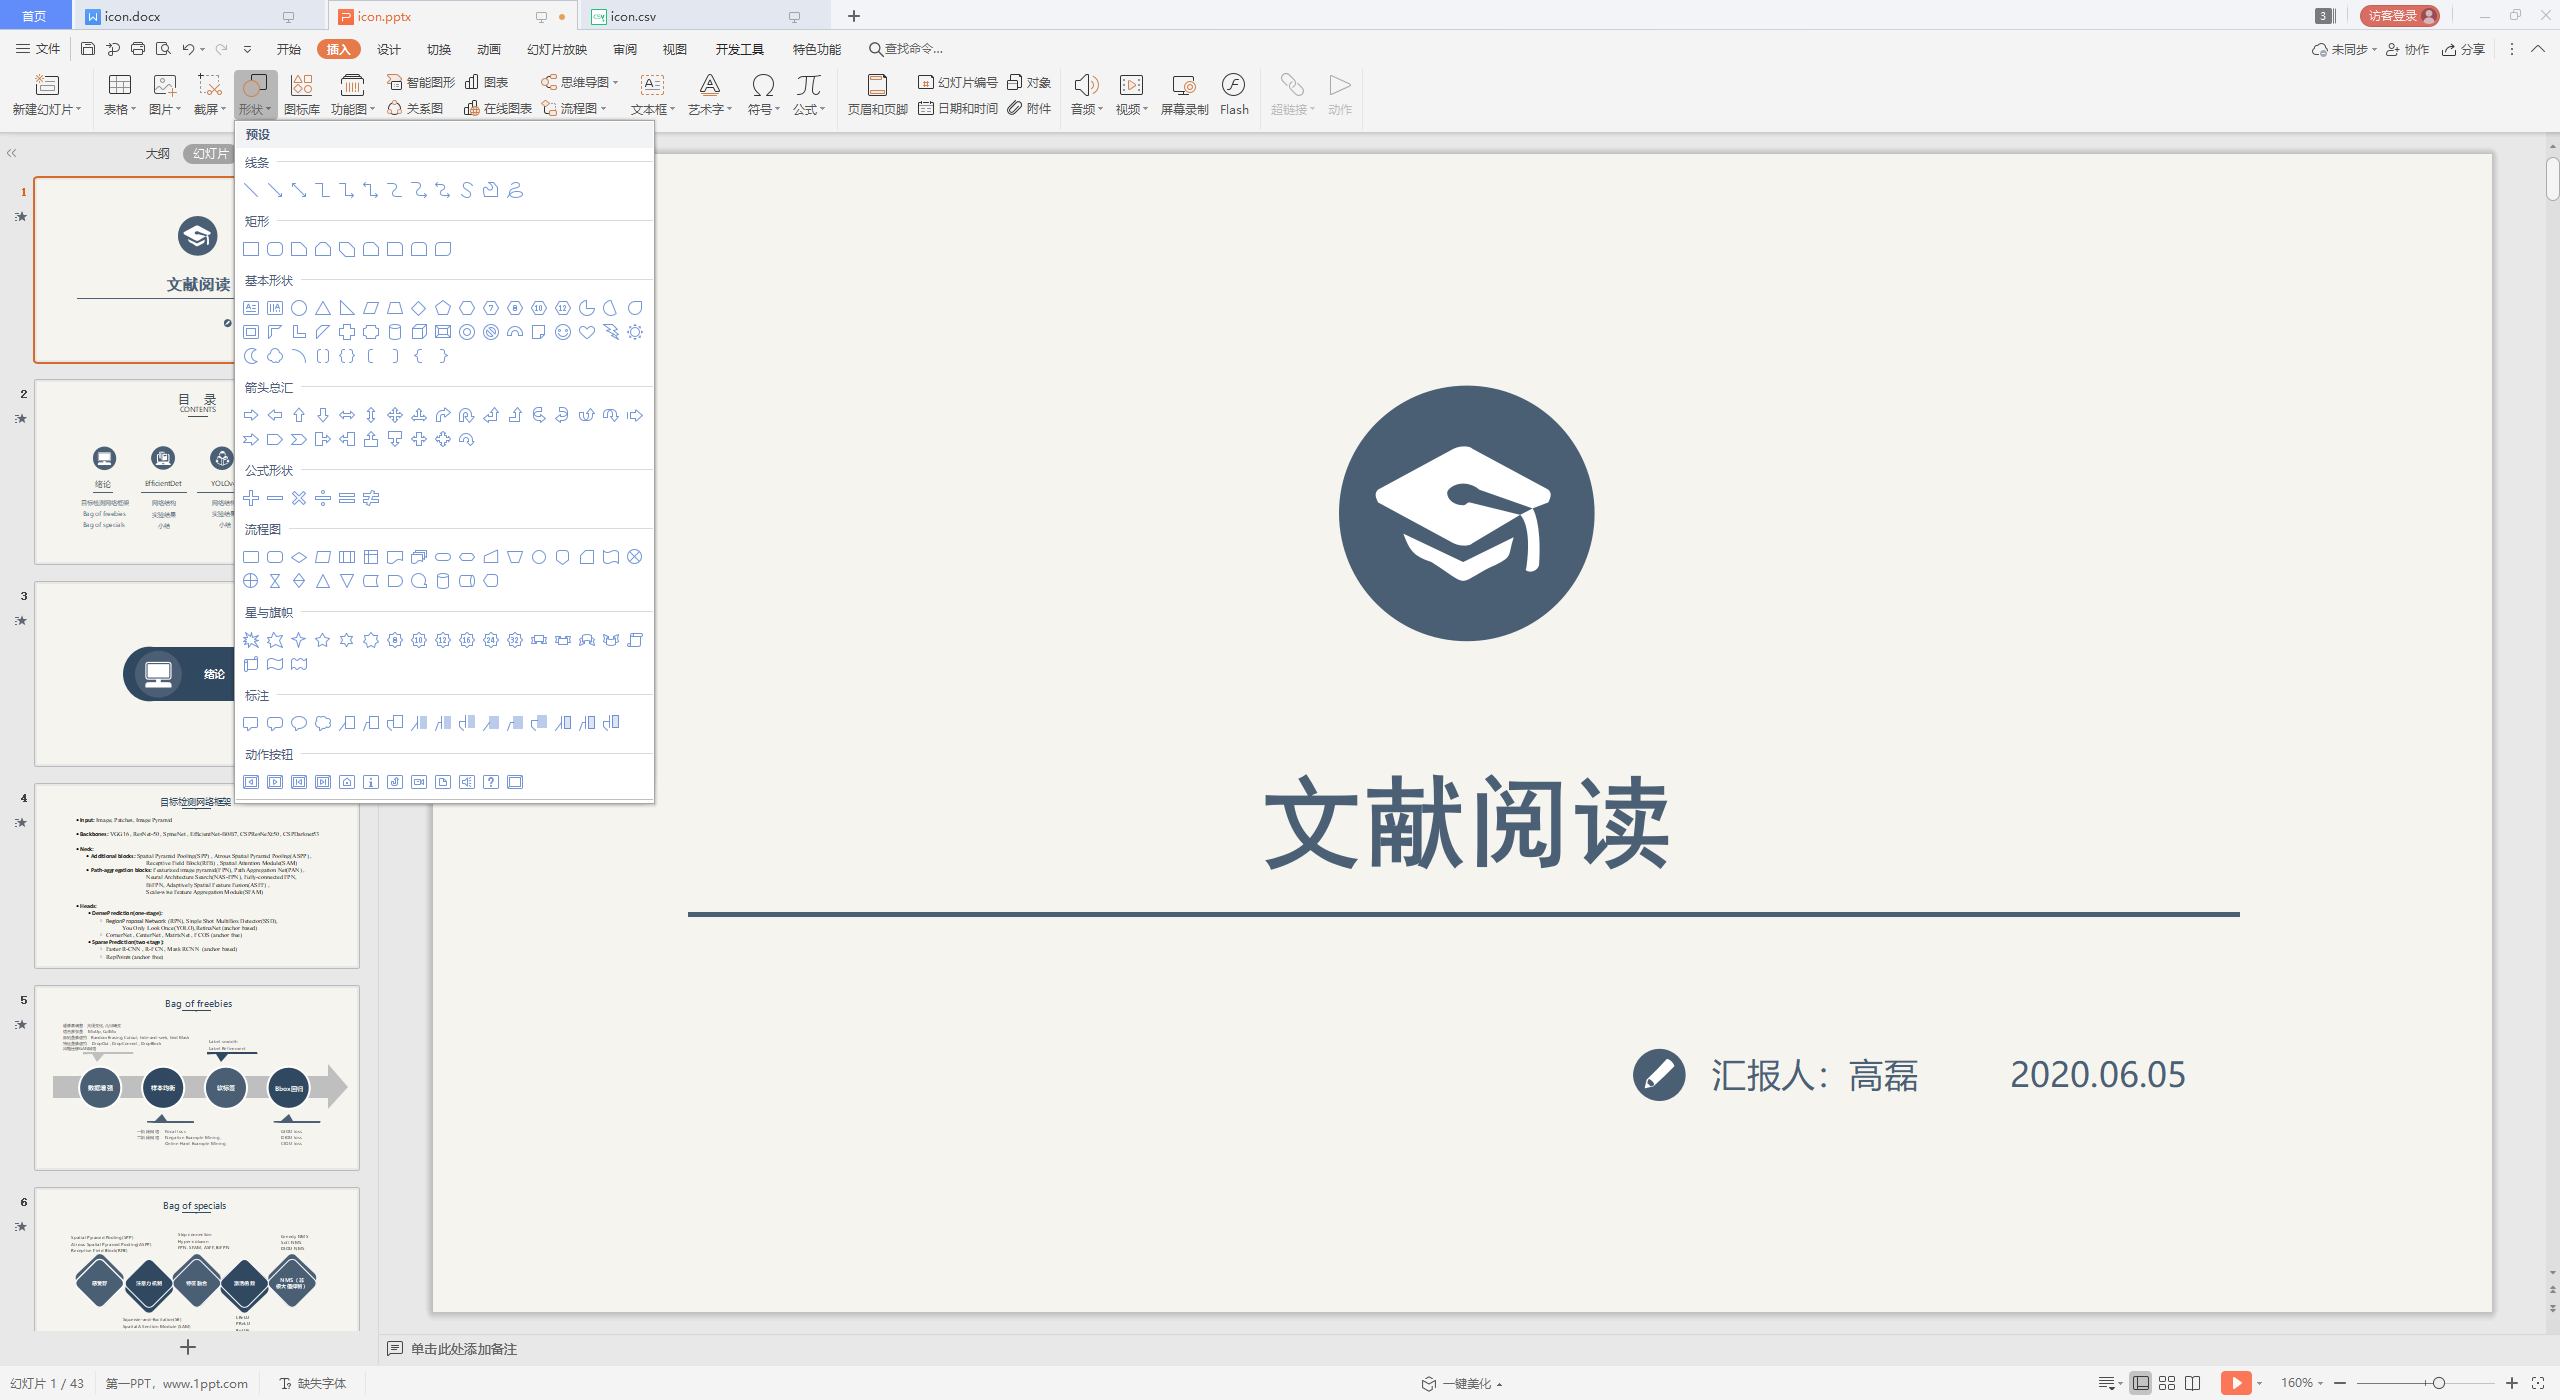character: (1262, 774, 1672, 872), (1707, 1057, 1919, 1097), (2005, 1053, 2188, 1095), (100, 1374, 250, 1393), (409, 1341, 522, 1359), (10, 1374, 88, 1393), (276, 1374, 352, 1393), (845, 102, 912, 117), (934, 76, 1002, 91), (245, 460, 297, 479), (241, 745, 293, 764), (245, 379, 295, 398), (2365, 5, 2415, 24), (934, 102, 1002, 116), (357, 9, 410, 26), (524, 41, 590, 55), (245, 272, 295, 290), (245, 605, 295, 622), (243, 519, 284, 540), (103, 10, 164, 24), (884, 41, 945, 55), (710, 41, 769, 55), (788, 41, 846, 55), (1155, 103, 1214, 117), (484, 100, 533, 116), (10, 103, 71, 116), (407, 76, 457, 90), (559, 76, 609, 90), (610, 10, 660, 24), (1441, 1378, 1491, 1391), (238, 684, 271, 705), (2331, 41, 2369, 59), (190, 147, 229, 162), (240, 128, 279, 143), (407, 102, 445, 117), (560, 100, 598, 116), (629, 100, 667, 116), (686, 100, 724, 116), (1217, 102, 1255, 117), (1269, 102, 1307, 117), (240, 155, 276, 171), (240, 214, 274, 229), (609, 41, 641, 57), (1026, 72, 1052, 91), (1027, 98, 1053, 117), (1071, 100, 1096, 119), (1114, 100, 1140, 119), (1327, 102, 1353, 121), (283, 103, 321, 116), (100, 102, 129, 117), (274, 41, 303, 57), (324, 41, 353, 57), (236, 102, 265, 117), (476, 41, 505, 57), (660, 41, 693, 55), (329, 103, 365, 116), (21, 9, 48, 24), (145, 102, 172, 117), (376, 41, 403, 57), (34, 41, 64, 55), (191, 102, 221, 116), (422, 41, 452, 55), (484, 76, 514, 90), (790, 103, 819, 117), (145, 147, 174, 160), (2405, 41, 2427, 59), (745, 102, 772, 116), (2462, 41, 2484, 57), (2277, 1378, 2312, 1386), (14, 184, 29, 198), (14, 588, 29, 602), (14, 388, 28, 402), (14, 791, 29, 803), (14, 993, 29, 1005), (16, 1197, 31, 1209)
icon: (34, 984, 360, 1171), (34, 779, 359, 966), (40, 1188, 364, 1340), (33, 581, 228, 772), (34, 181, 229, 371), (34, 378, 231, 555), (1369, 440, 1553, 588), (176, 216, 221, 259), (140, 657, 174, 690), (1643, 1057, 1672, 1091), (238, 71, 271, 98), (2219, 1369, 2253, 1395), (1169, 71, 1198, 98), (1071, 71, 1102, 97), (1279, 69, 1307, 97), (748, 72, 777, 98), (1219, 71, 1248, 97), (197, 71, 224, 97), (338, 72, 365, 98), (795, 72, 822, 98), (1117, 71, 1145, 97), (288, 71, 314, 97), (107, 72, 133, 97), (152, 72, 178, 97), (865, 71, 890, 97), (1326, 72, 1352, 97), (2127, 1371, 2153, 1395), (698, 72, 721, 97), (640, 72, 664, 95), (2181, 1371, 2203, 1395), (2155, 1371, 2179, 1393), (34, 74, 59, 95), (2313, 5, 2338, 24), (2419, 5, 2439, 24), (409, 179, 428, 198), (505, 179, 524, 198), (915, 72, 934, 91), (1003, 72, 1022, 91), (241, 488, 260, 507), (602, 547, 621, 566), (178, 1336, 197, 1355), (2096, 1372, 2115, 1391), (384, 72, 403, 90), (241, 181, 260, 198), (241, 347, 260, 364), (265, 317, 284, 334), (459, 179, 476, 198), (462, 72, 481, 90), (540, 72, 559, 90), (590, 9, 609, 26), (540, 98, 559, 116), (462, 98, 481, 116), (867, 40, 884, 59), (1003, 98, 1022, 116), (915, 98, 934, 116), (241, 571, 259, 590), (360, 490, 379, 507), (264, 488, 283, 505), (241, 633, 260, 650), (602, 714, 621, 731), (241, 772, 260, 790), (384, 1340, 403, 1357), (265, 347, 283, 364), (386, 322, 403, 340), (410, 322, 428, 340), (290, 298, 307, 316), (338, 347, 355, 364), (338, 322, 355, 340), (384, 98, 402, 116), (241, 240, 259, 257), (103, 40, 121, 57), (265, 322, 283, 340), (241, 322, 259, 340), (265, 298, 283, 316), (241, 298, 259, 316), (386, 405, 403, 422), (360, 181, 378, 198), (529, 298, 546, 316), (459, 298, 476, 316), (434, 298, 452, 316), (553, 298, 571, 316), (553, 322, 571, 340), (434, 240, 452, 257), (459, 322, 476, 340), (433, 181, 450, 198), (434, 405, 452, 422), (481, 181, 498, 198), (578, 298, 595, 316), (602, 322, 619, 340), (626, 322, 643, 340), (265, 716, 283, 733), (386, 429, 403, 447), (265, 548, 283, 566), (410, 714, 428, 731), (386, 714, 403, 731), (241, 716, 259, 733), (241, 655, 259, 672), (410, 631, 428, 648), (241, 548, 259, 566), (265, 655, 283, 672), (362, 631, 379, 648), (434, 572, 452, 590), (553, 548, 571, 566), (434, 429, 452, 447), (529, 714, 546, 731), (434, 714, 452, 731), (553, 714, 571, 731), (602, 631, 619, 648), (265, 772, 283, 790), (290, 772, 307, 790), (410, 772, 428, 790), (314, 772, 331, 790), (1420, 1374, 1438, 1391), (2503, 1374, 2520, 1391), (79, 40, 97, 55), (386, 241, 403, 257), (290, 241, 307, 257), (291, 347, 307, 364), (338, 241, 355, 257), (314, 300, 331, 316), (153, 40, 171, 55), (265, 183, 283, 198), (362, 324, 379, 340), (410, 407, 428, 422), (362, 241, 379, 257), (84, 9, 102, 24), (336, 9, 353, 24), (265, 241, 283, 257), (384, 183, 402, 198), (362, 300, 379, 316), (14, 40, 31, 55), (3, 143, 19, 160), (12, 410, 29, 426), (507, 298, 522, 316), (529, 324, 546, 340), (434, 322, 450, 340), (602, 298, 617, 316), (483, 298, 498, 316), (602, 407, 619, 422), (483, 322, 498, 340), (483, 405, 498, 422), (578, 324, 595, 340), (531, 405, 546, 422), (578, 407, 595, 422), (553, 405, 569, 422), (845, 7, 862, 22), (386, 548, 402, 566), (314, 716, 331, 731), (410, 572, 428, 588), (290, 716, 307, 731), (291, 548, 307, 566), (338, 548, 355, 564), (340, 714, 355, 731), (290, 572, 307, 588), (290, 431, 307, 447), (314, 431, 331, 447), (338, 431, 355, 447), (362, 714, 379, 729), (314, 490, 331, 505), (362, 431, 379, 447), (290, 655, 307, 671), (265, 431, 283, 447), (241, 431, 259, 447), (386, 631, 403, 647), (265, 572, 283, 588), (338, 490, 355, 505), (507, 714, 522, 731), (529, 548, 546, 564), (578, 548, 595, 564), (459, 714, 476, 729), (507, 631, 522, 648), (459, 631, 476, 647), (434, 631, 452, 647), (483, 631, 498, 648), (578, 716, 595, 731), (338, 774, 355, 790), (386, 772, 402, 790), (362, 774, 379, 790), (12, 814, 29, 829), (434, 774, 452, 790), (507, 772, 522, 790), (483, 772, 498, 790), (459, 774, 476, 790), (12, 1217, 28, 1234), (2529, 1374, 2546, 1390), (410, 241, 426, 257), (315, 348, 331, 364), (410, 300, 426, 316), (386, 300, 402, 316), (291, 324, 307, 340), (129, 40, 145, 55), (291, 407, 307, 422), (340, 300, 355, 316), (243, 407, 259, 422), (267, 407, 283, 422), (314, 183, 329, 198), (338, 183, 353, 198), (507, 322, 522, 338), (459, 407, 474, 422), (507, 407, 522, 422), (2441, 41, 2457, 57), (2384, 41, 2400, 57), (2312, 41, 2327, 57), (410, 548, 426, 564), (410, 431, 426, 447), (340, 572, 355, 588), (386, 572, 402, 588), (291, 490, 307, 505), (12, 612, 28, 628), (362, 572, 378, 588), (291, 633, 307, 648), (628, 631, 643, 647), (483, 714, 498, 729), (483, 548, 498, 564), (507, 548, 522, 564), (626, 548, 641, 564), (459, 431, 474, 447), (2431, 1374, 2446, 1390), (267, 633, 283, 648), (315, 633, 331, 648), (179, 41, 197, 55), (290, 183, 307, 197), (338, 407, 355, 421), (626, 409, 643, 422), (2505, 38, 2519, 55), (459, 572, 476, 586), (459, 550, 476, 564), (529, 633, 546, 647), (578, 633, 595, 647), (14, 1016, 28, 1033), (314, 241, 329, 255), (315, 324, 329, 340), (315, 407, 329, 422), (14, 209, 28, 224), (364, 407, 378, 422), (628, 300, 641, 316), (2507, 7, 2522, 21), (315, 548, 329, 564), (315, 572, 329, 588), (364, 548, 378, 564), (434, 550, 450, 564), (483, 572, 498, 586), (555, 633, 571, 647), (214, 41, 228, 55), (534, 10, 548, 24), (2531, 41, 2544, 55), (2477, 9, 2491, 22), (2539, 7, 2553, 21), (340, 633, 353, 647), (2332, 1376, 2346, 1390), (410, 348, 422, 364), (281, 10, 297, 22), (364, 348, 376, 364), (390, 348, 402, 364), (436, 348, 448, 364), (367, 102, 379, 116), (788, 10, 802, 22), (2546, 138, 2558, 152), (2420, 1376, 2432, 1390), (2369, 45, 2381, 59), (2546, 1302, 2560, 1314), (241, 43, 253, 55), (555, 10, 567, 22), (1493, 1378, 1505, 1390), (2115, 1378, 2127, 1390), (222, 316, 233, 329), (598, 100, 609, 114), (2315, 1376, 2326, 1390), (2548, 1283, 2558, 1297), (197, 43, 207, 55), (610, 76, 621, 88), (129, 103, 140, 116), (2546, 1266, 2557, 1278), (2255, 1376, 2263, 1390), (74, 102, 83, 114), (669, 103, 677, 116), (174, 103, 183, 116), (221, 102, 229, 114), (265, 103, 274, 116), (772, 103, 781, 116), (726, 103, 734, 114), (1096, 103, 1105, 114), (1141, 103, 1150, 114), (1308, 103, 1317, 114), (819, 103, 826, 116)
